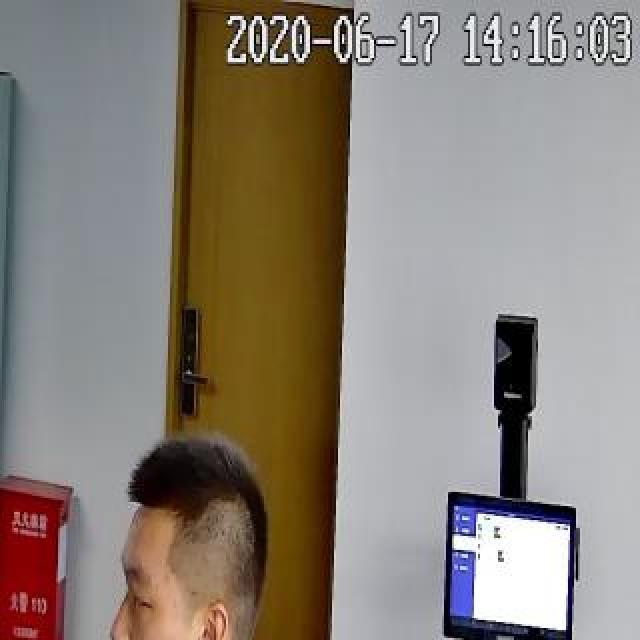Guns: (0, 616, 106, 640)
